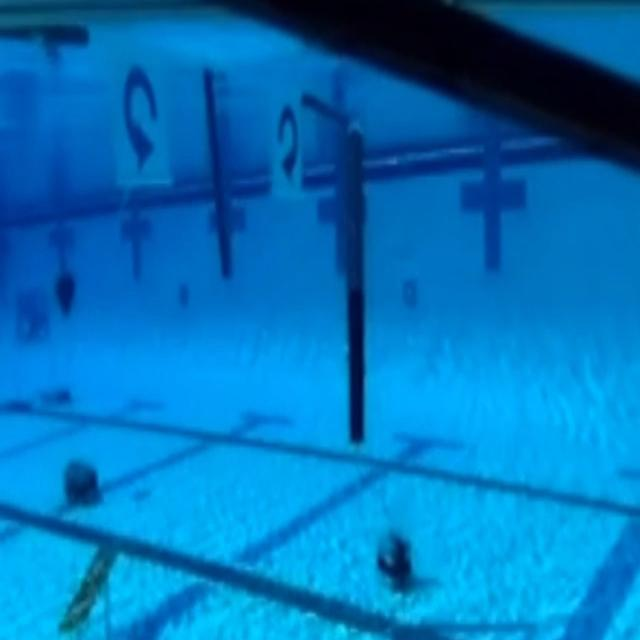Gate: (0, 7, 378, 475)
